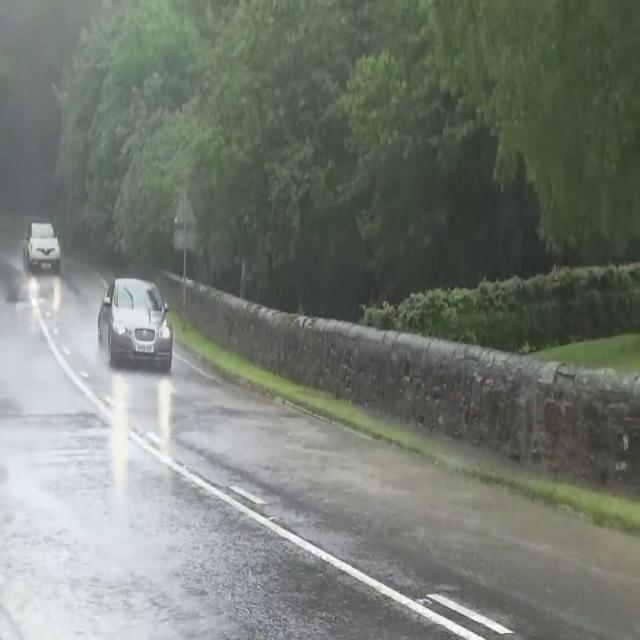license-plate-annotation: (136, 342, 155, 352)
